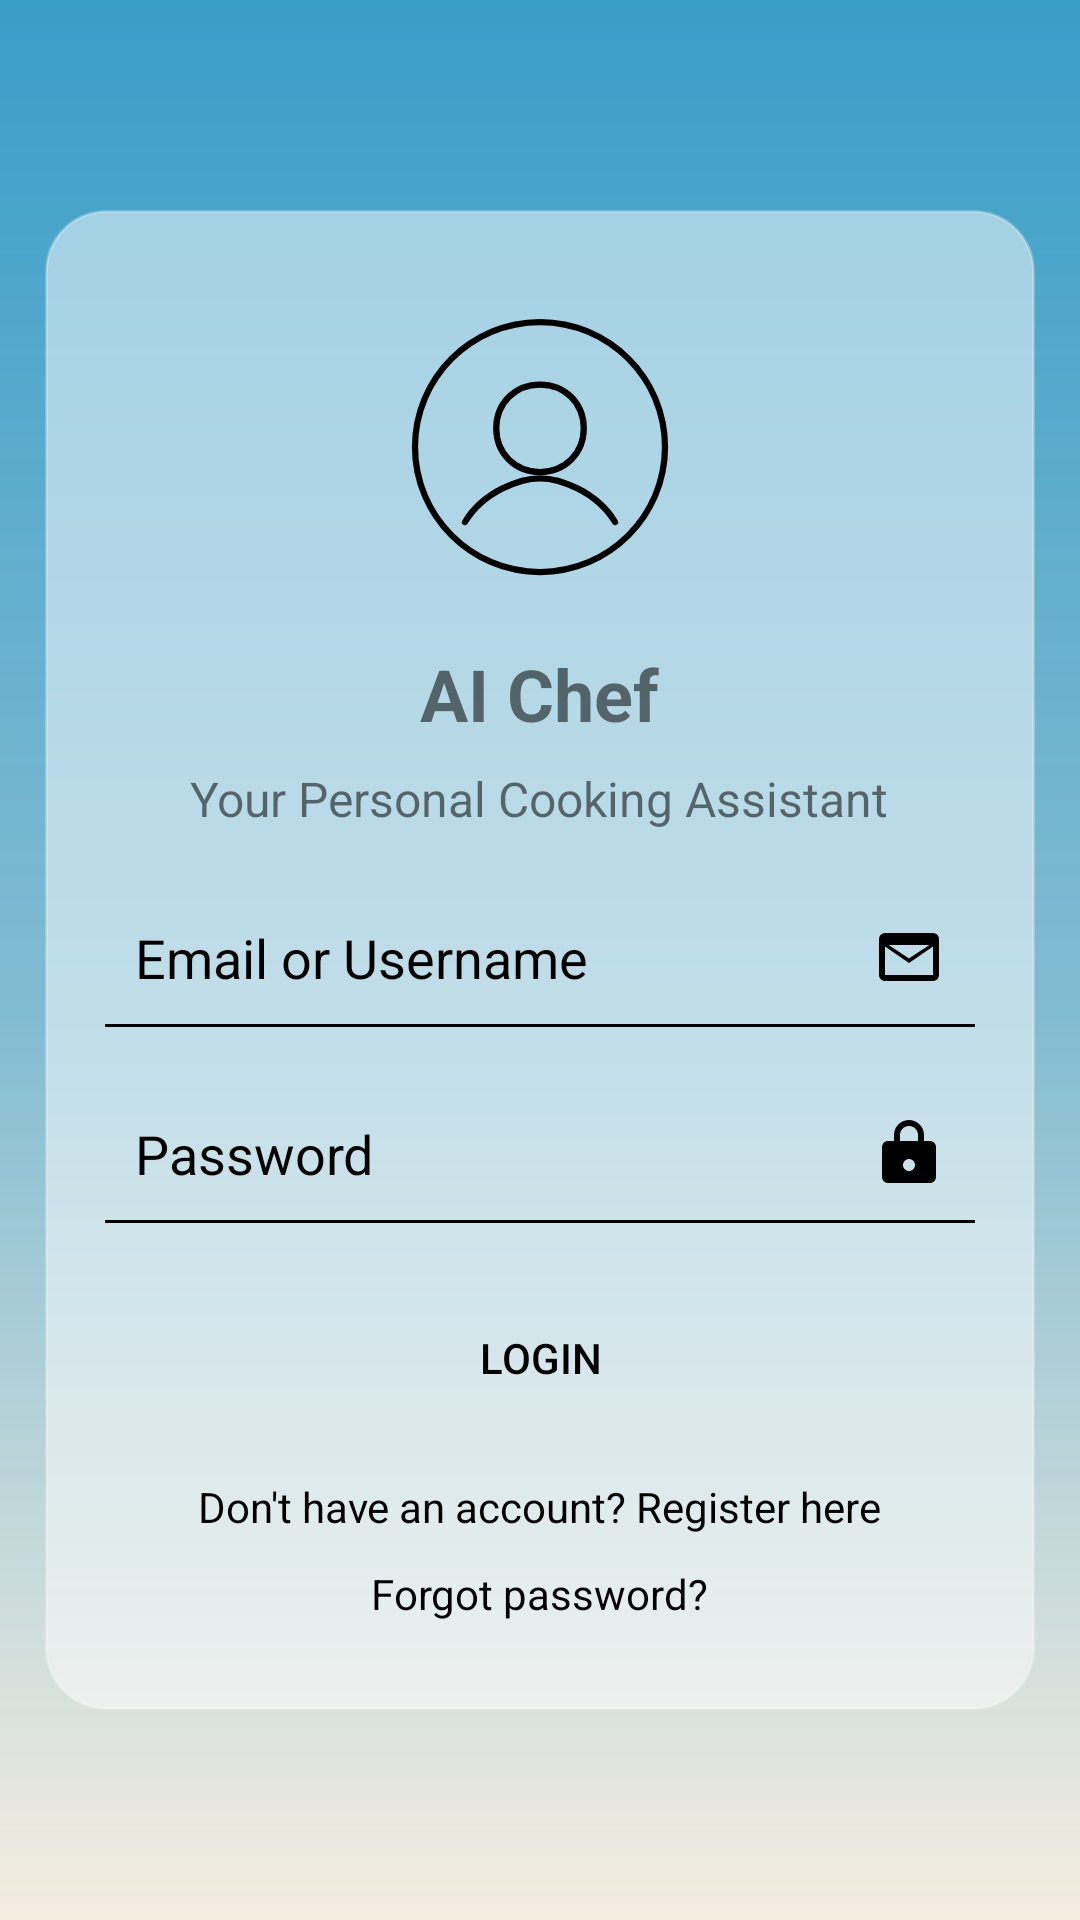

Named icons in this screenshot (1080 × 1920) and their bounding boxes, {"left": x1, "top": y1, "right": x2, "bottom": y2}:
user: {"left": 412, "top": 319, "right": 668, "bottom": 576}
